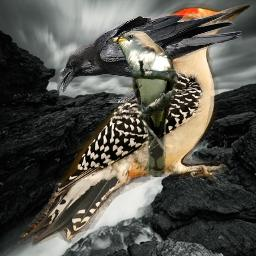Crow: (57, 12, 242, 103)
Cuckoo: (107, 30, 178, 177)
Woodpecker: (20, 3, 250, 249)
